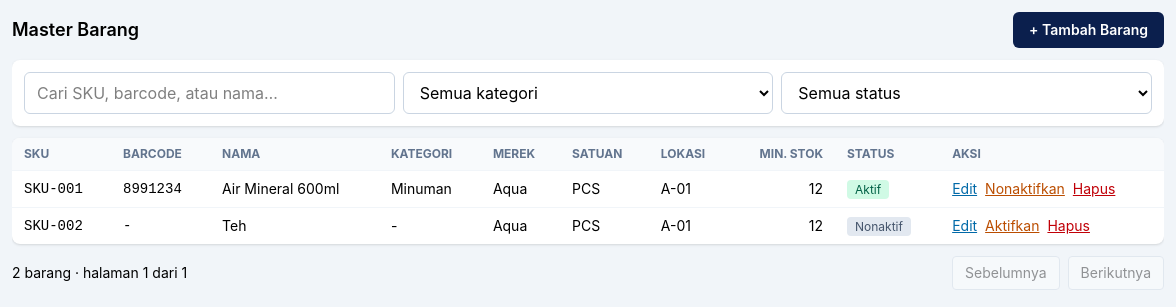
Test: Master Barang › hapus barang berhistori ditolak server: pesan galat, tidak ada klaim sukses
expect the text "SKU-001" is shown: met, box [12, 170, 111, 208]
What coordinates should you click on to do the following:
click the button "Hapus" in the row of "SKU-001"
I would click on:
 (1094, 189)
Its box is [1073, 179, 1115, 199].
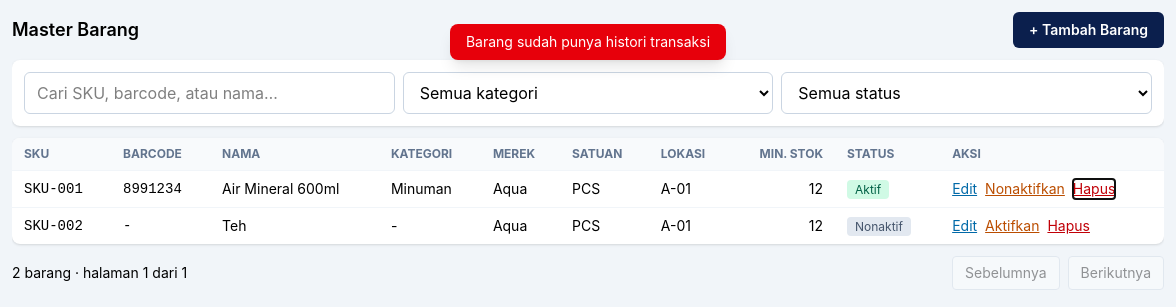
expect the text "Barang sudah punya histori transaksi" is shown: met, box [450, 24, 726, 60]
